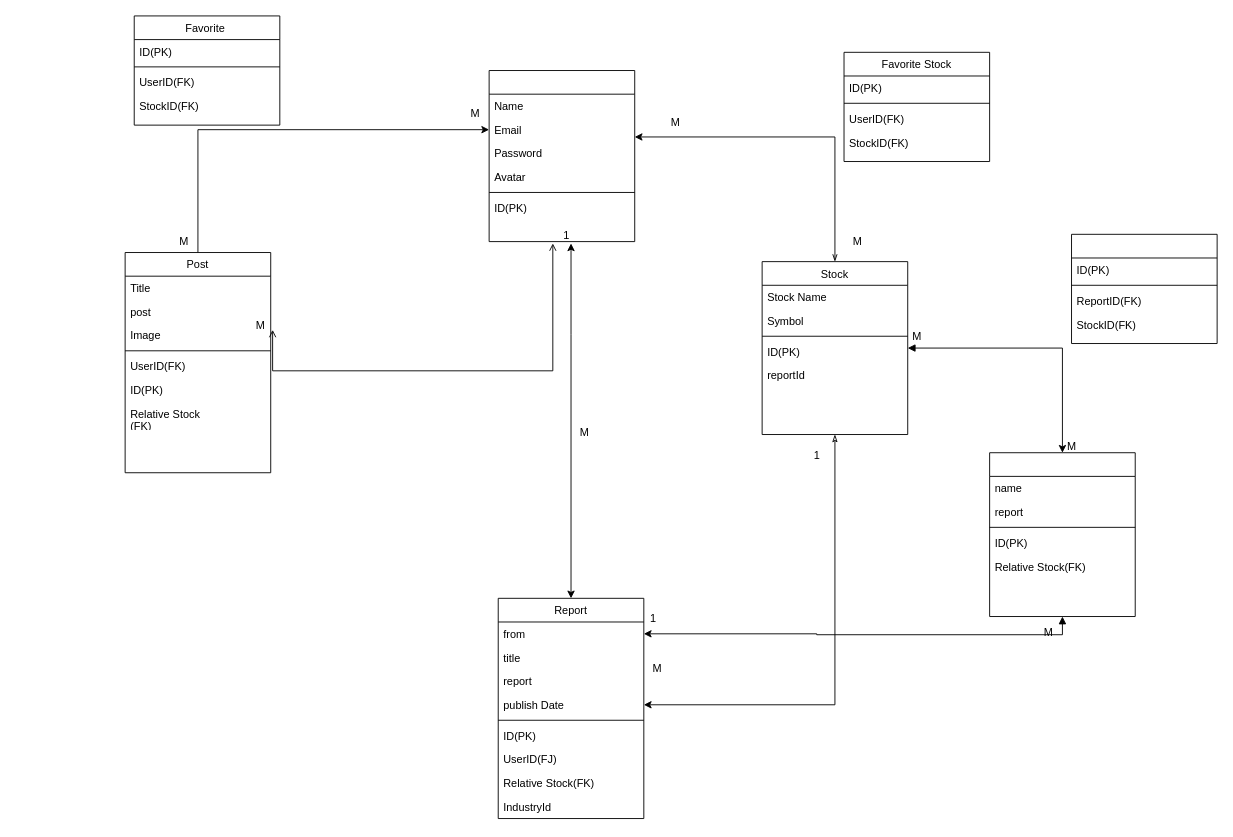
Image size: 1233x837. Some labels were removed from this diagram. The box of each missing label's shape, as (x1, y1, x2, y2) in pixels:
Industry: (989, 452, 1135, 617)
Industry report relative stock: (1071, 233, 1217, 344)
User: (488, 70, 635, 242)
